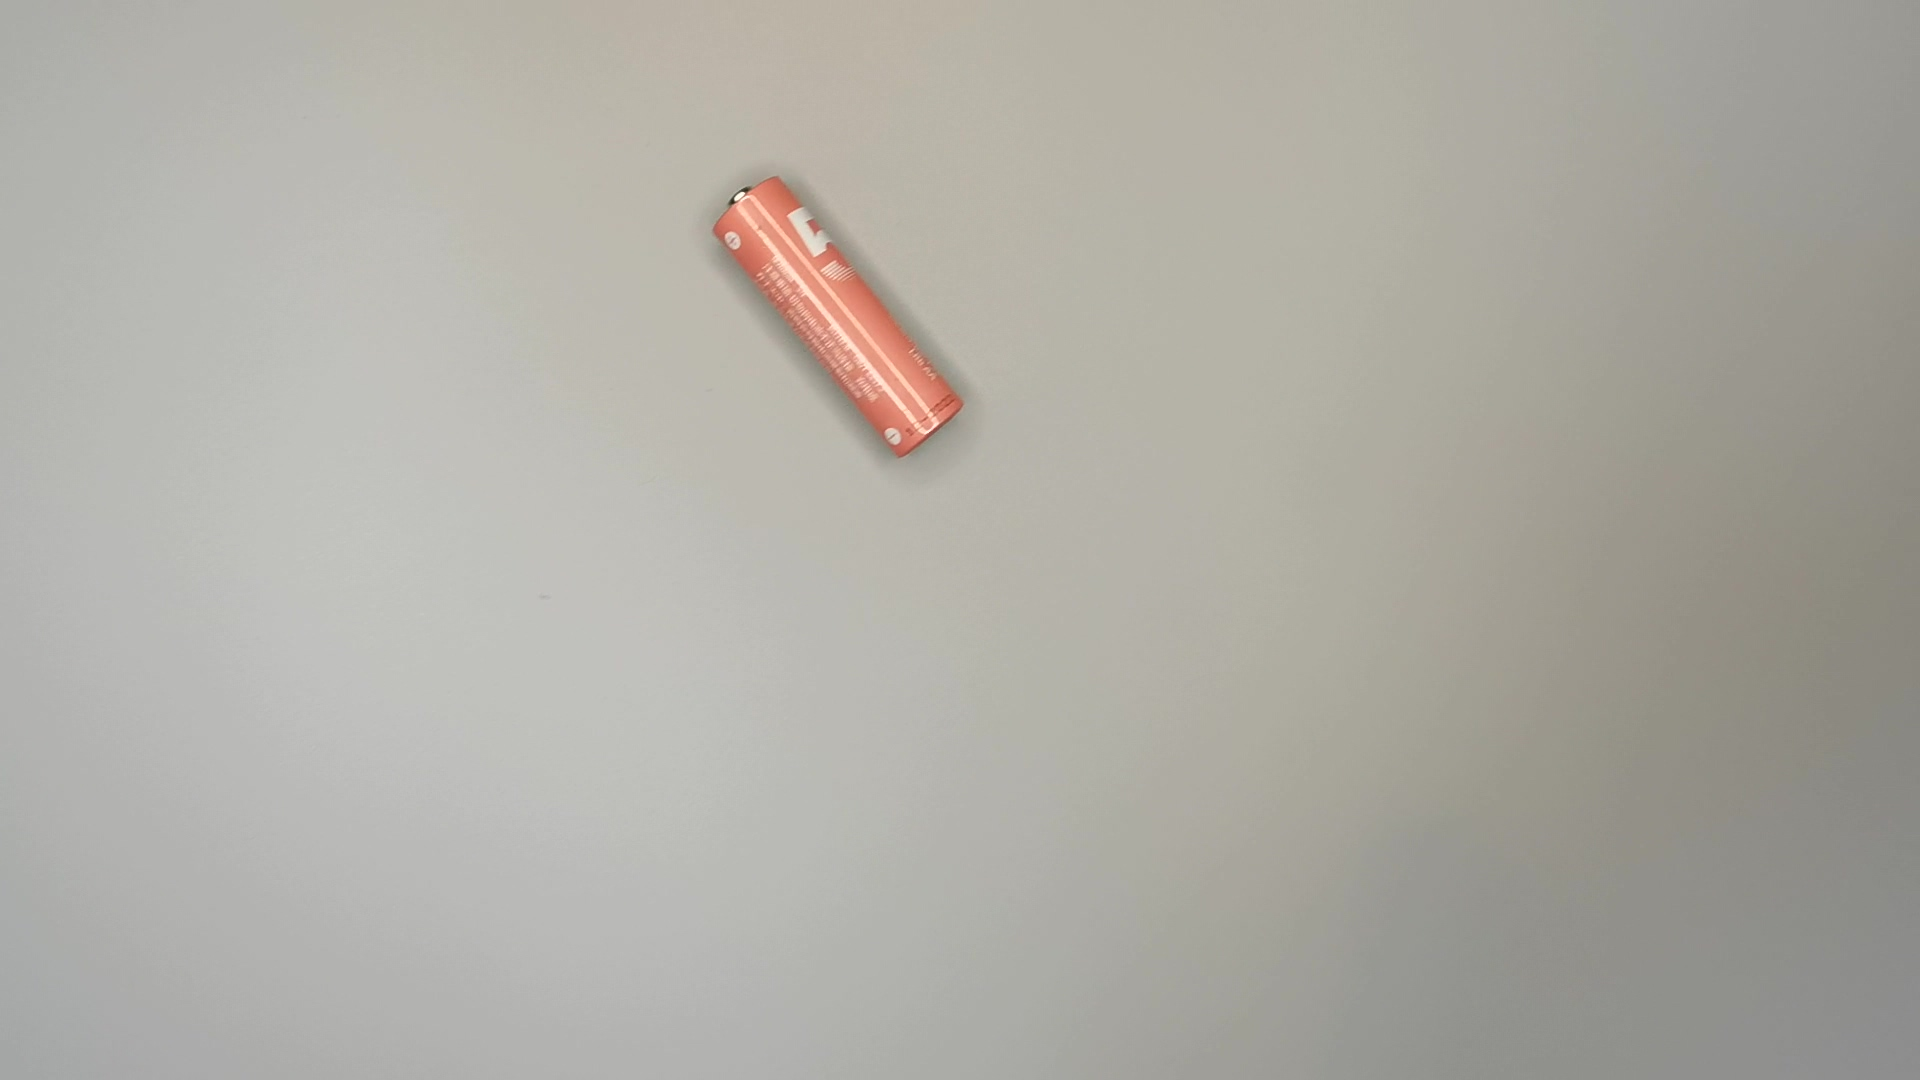battery: (699, 167, 967, 463)
